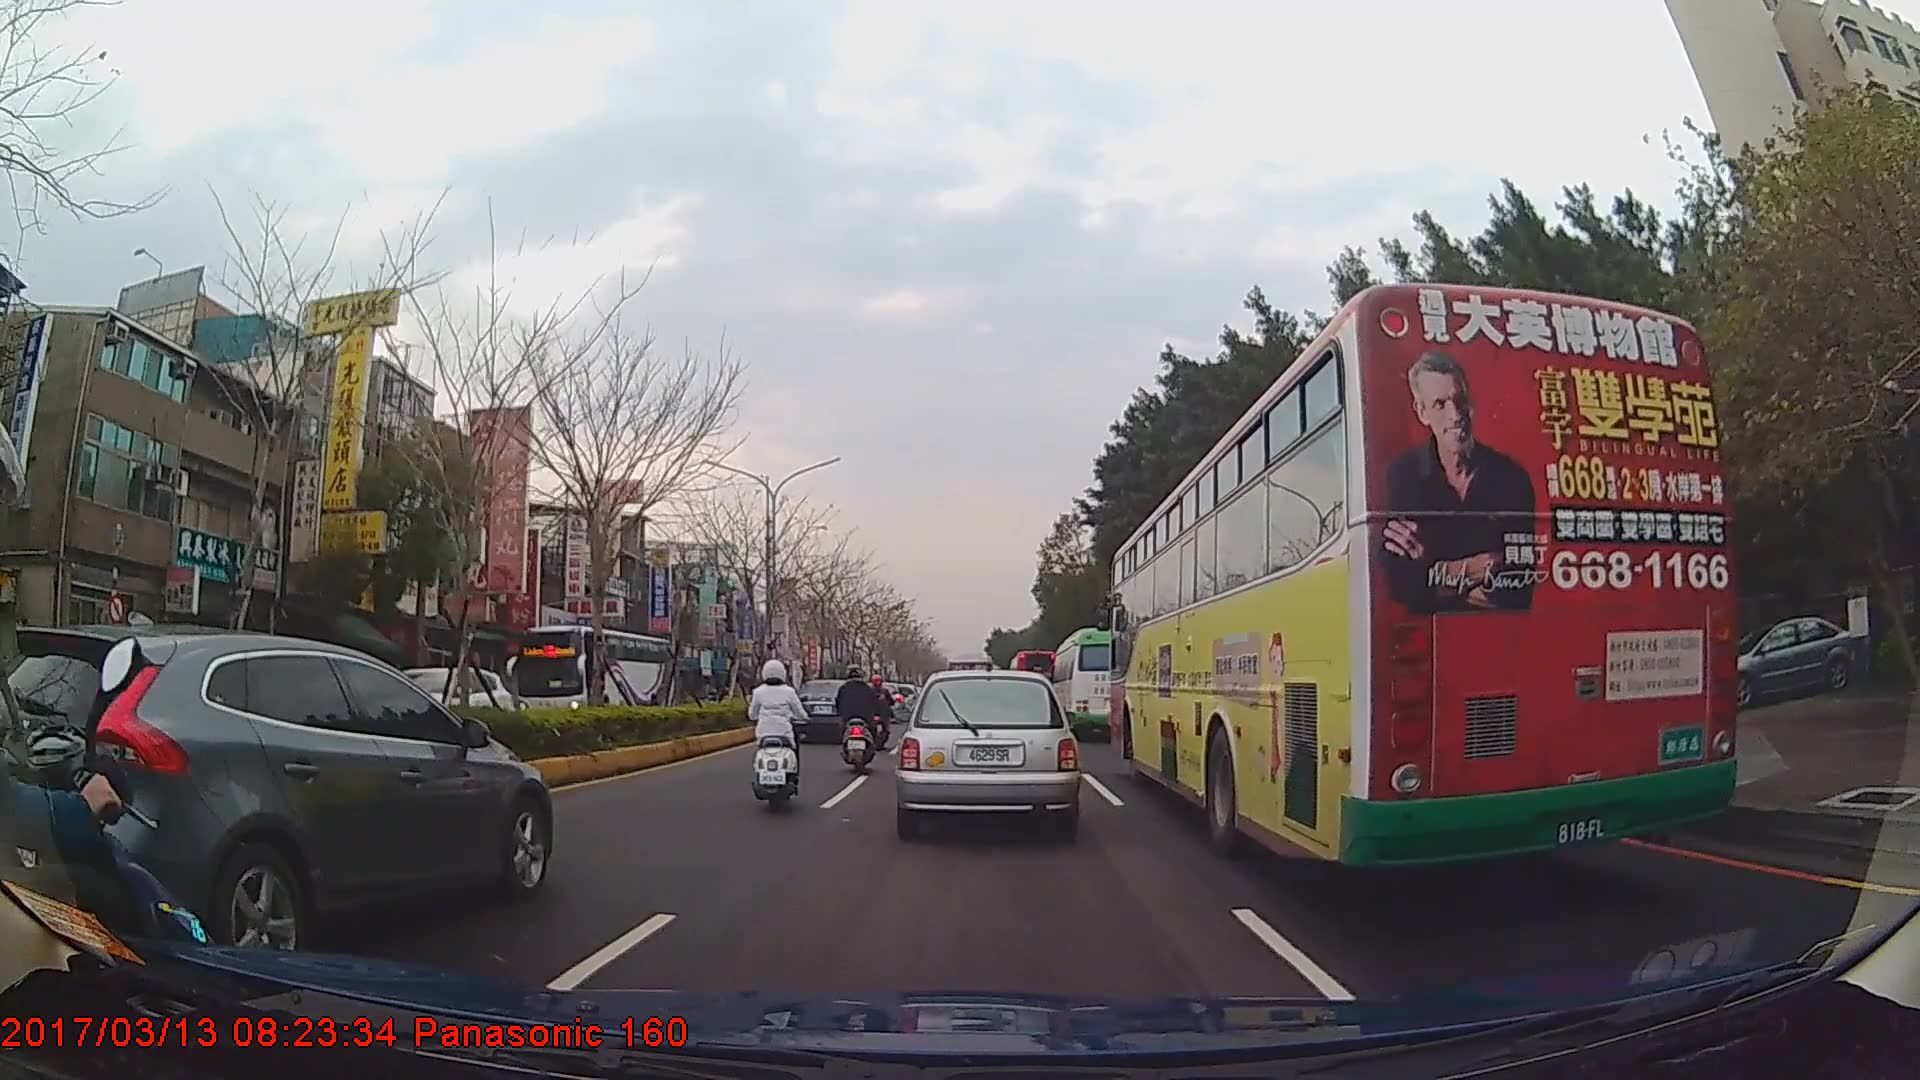rider: (1, 423, 225, 1080), (745, 657, 808, 816), (831, 664, 885, 763), (867, 677, 893, 754)
vehicle: (1104, 286, 1737, 878), (0, 626, 554, 957), (897, 668, 1078, 837), (516, 624, 675, 731), (369, 664, 513, 741), (1051, 627, 1142, 742), (789, 680, 867, 746), (1004, 649, 1057, 722)
